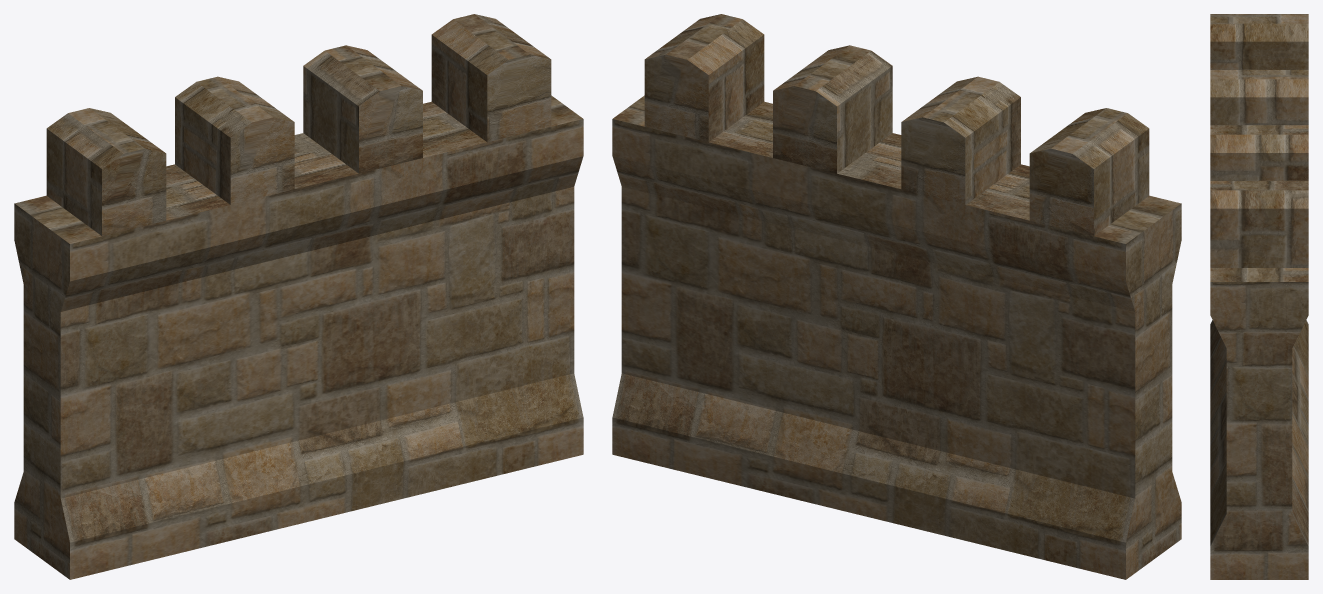
File: LabWall.obj
3 renders of one model, left to right at view 1: azimuth 30°, elevation 25°; view 2: azimuth 150°, elevation 25°; view 3: azimuth 270°, elevation 25°, orthographic. The views are drawn at different scales.
Visible parts, largest first — view 1: Plane.001; view 2: Plane.001; view 3: Plane.001.
Part boxes in pixels (x1,y1,x2,y2): Plane.001: (14, 14, 583, 579); Plane.001: (612, 14, 1181, 579); Plane.001: (1210, 14, 1308, 579).
Bounding box in the file's own units: 16 × 12.3 × 3.
1 material, 1 textured.
